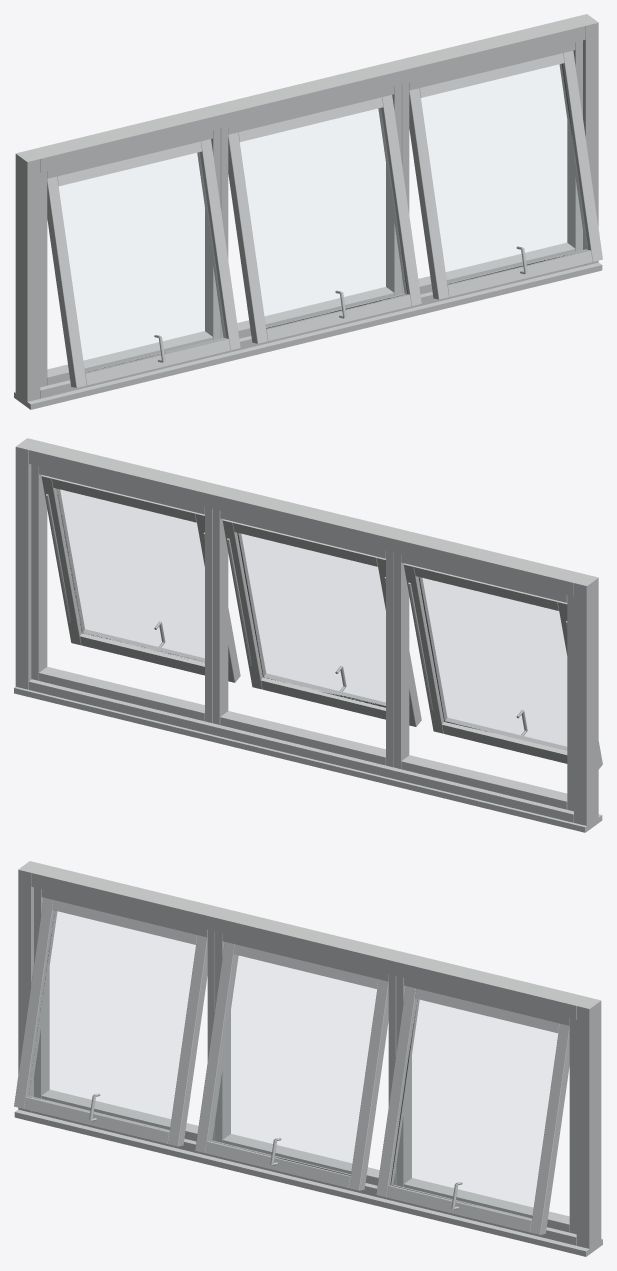
The model's file is white-triple-awning-glass-window-07.glb.
The picture shows the model from 3 angles, top to bottom: view 1: azimuth 30°, elevation 25°; view 2: azimuth 150°, elevation 25°; view 3: azimuth 330°, elevation 25°; orthographic projection.
Visible parts, largest first — view 1: Window / Awning leaf glass, Window / Awning leaf sash, Window / Outer jamb, Window / Awning opening, Window / Sill extrusion; view 2: Window / Awning leaf glass, Window / Outer jamb, Window / Awning opening, Window / Awning leaf sash, Window / Sill extrusion, Window / Friction stay, Window / Awning leaf glazing gasket; view 3: Window / Awning leaf glass, Window / Awning leaf sash, Window / Outer jamb, Window / Awning opening, Window / Sill extrusion.
Part boxes in pixels (x1=…): Window / Awning leaf glass: x1=59, y1=64, x2=587, y2=371; Window / Awning leaf sash: x1=47, y1=50, x2=602, y2=387; Window / Outer jamb: x1=15, y1=14, x2=598, y2=406; Window / Awning opening: x1=40, y1=40, x2=582, y2=387; Window / Sill extrusion: x1=14, y1=262, x2=602, y2=409; Window / Awning leaf glass: x1=57, y1=489, x2=566, y2=749; Window / Outer jamb: x1=15, y1=438, x2=598, y2=825; Window / Awning opening: x1=31, y1=464, x2=573, y2=811; Window / Awning leaf sash: x1=41, y1=475, x2=602, y2=769; Window / Sill extrusion: x1=14, y1=686, x2=602, y2=832; Window / Friction stay: x1=46, y1=494, x2=567, y2=710; Window / Awning leaf glazing gasket: x1=56, y1=489, x2=486, y2=731; Window / Awning leaf glass: x1=29, y1=911, x2=557, y2=1218; Window / Awning leaf sash: x1=14, y1=897, x2=569, y2=1234; Window / Outer jamb: x1=18, y1=861, x2=601, y2=1253; Window / Awning opening: x1=34, y1=887, x2=576, y2=1234; Window / Sill extrusion: x1=14, y1=1109, x2=602, y2=1256.
Size of the model in its own units: 1.95 by 0.8 by 0.2729.
